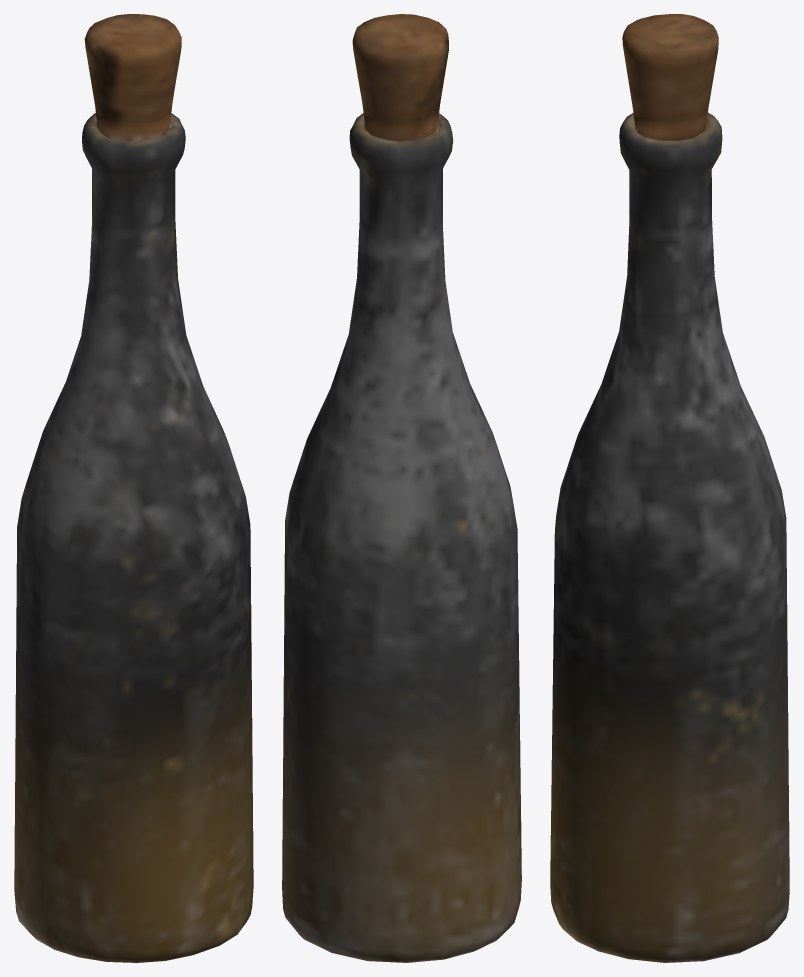
File: Bootle.FBX
3 renders of one model, left to right at view 1: azimuth 30°, elevation 25°; view 2: azimuth 150°, elevation 25°; view 3: azimuth 270°, elevation 25°, orthographic.
Visible parts, largest first — view 1: Bootle; view 2: Bootle; view 3: Bootle.
Part boxes in pixels (box(x1,y1,x2,y2)): Bootle: box(14, 14, 253, 962); Bootle: box(282, 14, 521, 962); Bootle: box(550, 14, 789, 962).
Size of the model in its own units: 7.75 by 7.7 by 31.45.
